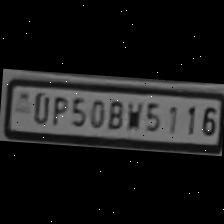0: (85, 94, 105, 128)
1: (178, 100, 198, 135), (164, 100, 182, 134)
5: (65, 94, 87, 128), (141, 98, 163, 132)
6: (196, 100, 220, 136)
B: (104, 96, 126, 128)
P: (47, 92, 67, 124)
U: (27, 88, 51, 124)
W: (124, 96, 142, 130)
